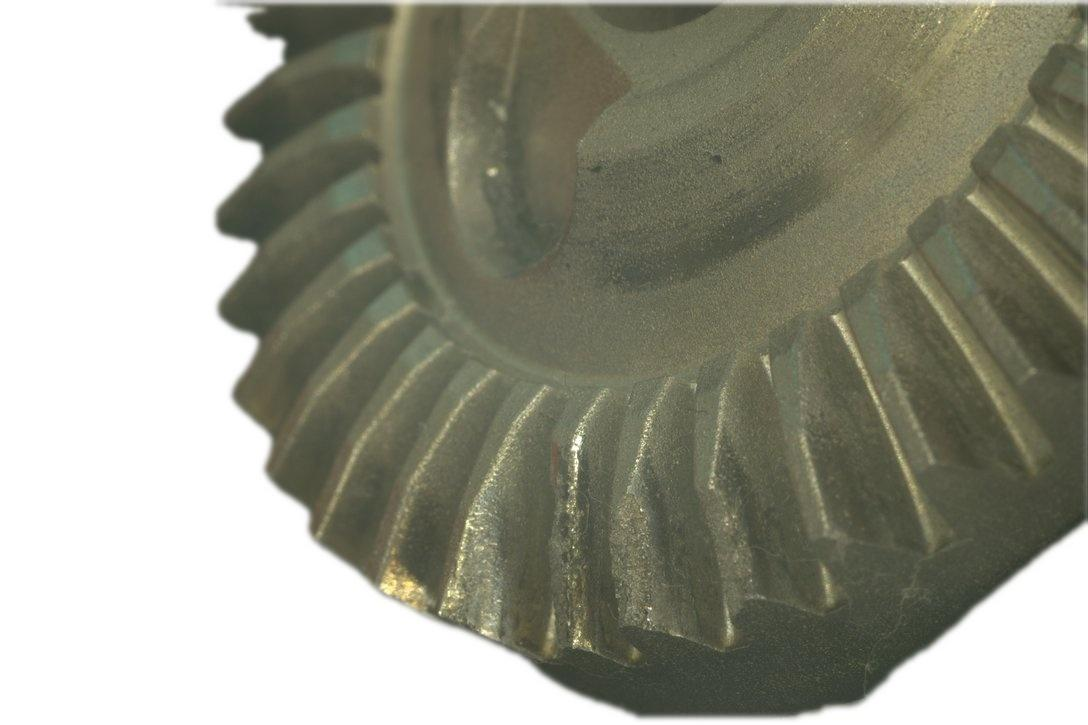defect: (708, 442, 796, 611), (442, 466, 527, 639), (610, 461, 694, 635), (549, 444, 606, 656), (378, 561, 429, 609)
